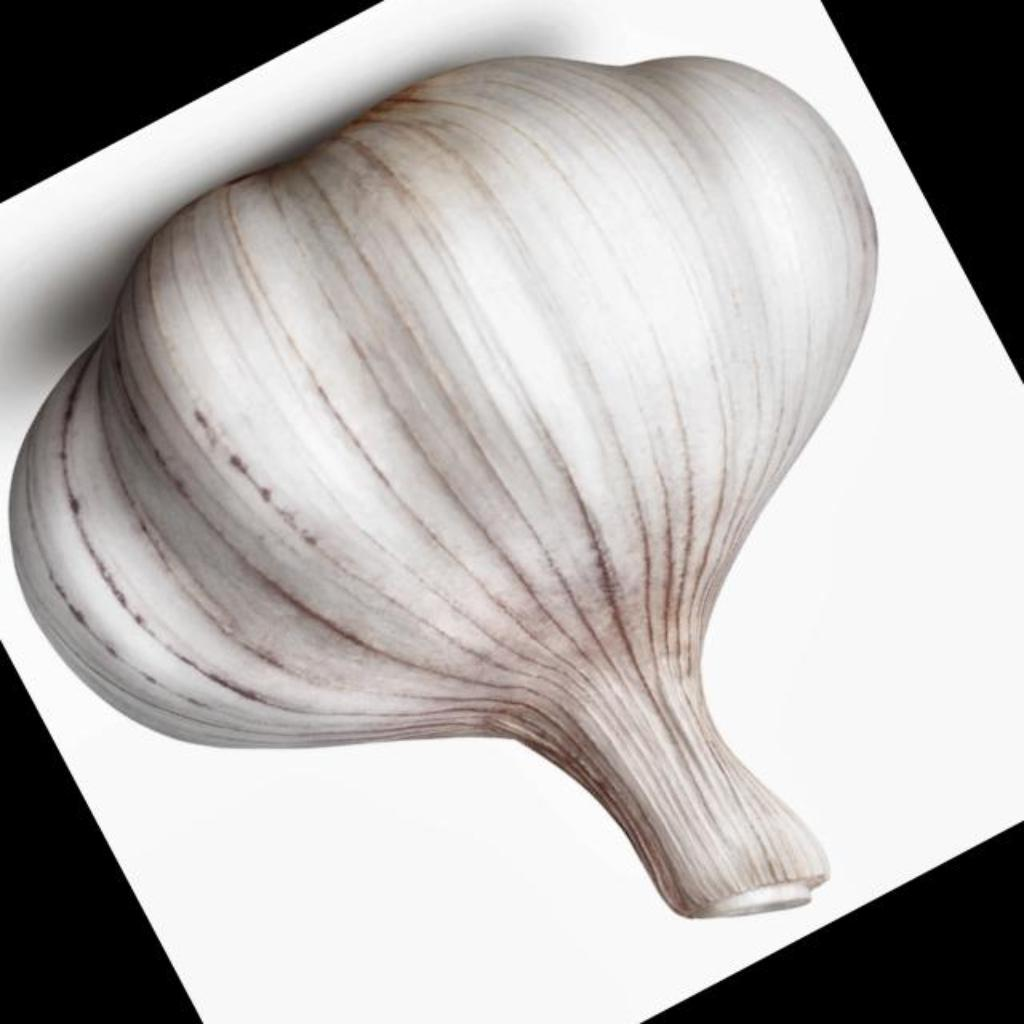garlic: (10, 58, 876, 915)
